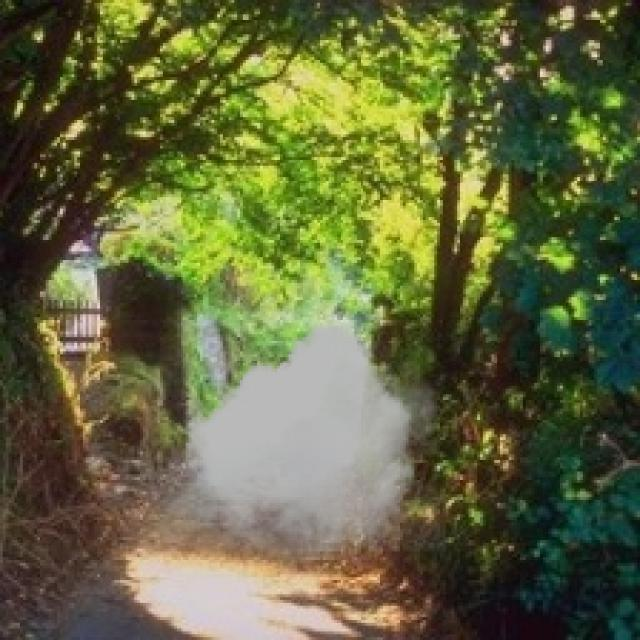smoke: (180, 323, 446, 551)
